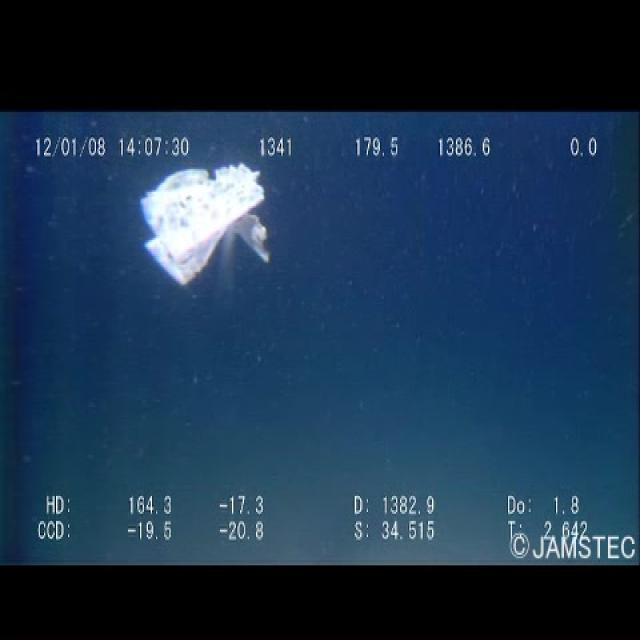plastic: (136, 157, 284, 295)
